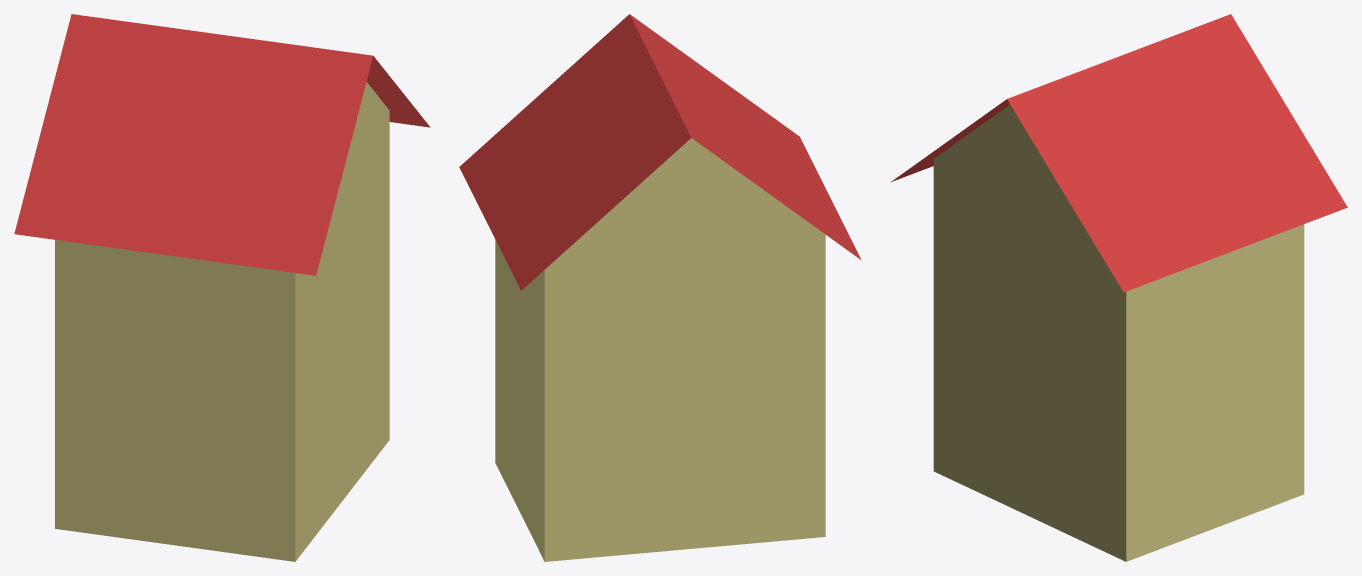
The picture shows the model from 3 angles, left to right: view 1: azimuth 30°, elevation 25°; view 2: azimuth 150°, elevation 25°; view 3: azimuth 270°, elevation 25°; orthographic projection. The views are drawn at different scales.
Bounding box in the file's own units: 7.5 × 7.44 × 7.65.
